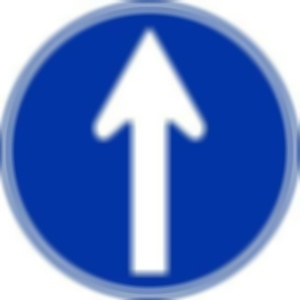Direction_sign: (1, 5, 298, 298)
